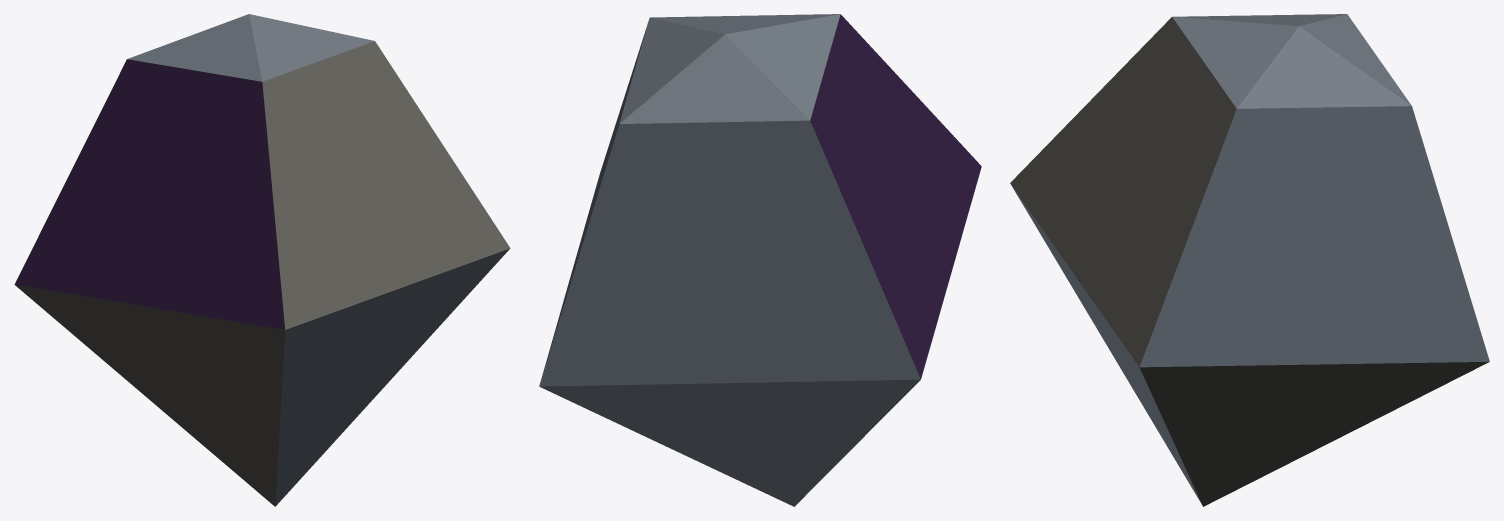
Rendered from floating-shard-b.glb.
3 views of the same model, side by side, from view 1: azimuth 30°, elevation 25°; view 2: azimuth 150°, elevation 25°; view 3: azimuth 270°, elevation 25° (orthographic). The views are drawn at different scales.
Parts seen in each view (by area): view 1: FloatingShardB; view 2: FloatingShardB; view 3: FloatingShardB.
Part boxes in pixels (<box>): FloatingShardB: <box>14,14,510,506</box>; FloatingShardB: <box>539,14,981,506</box>; FloatingShardB: <box>1010,14,1489,506</box>.
Size of the model in its own units: 0.3642 by 0.4034 by 0.3578.
1 material, 1 textured.
